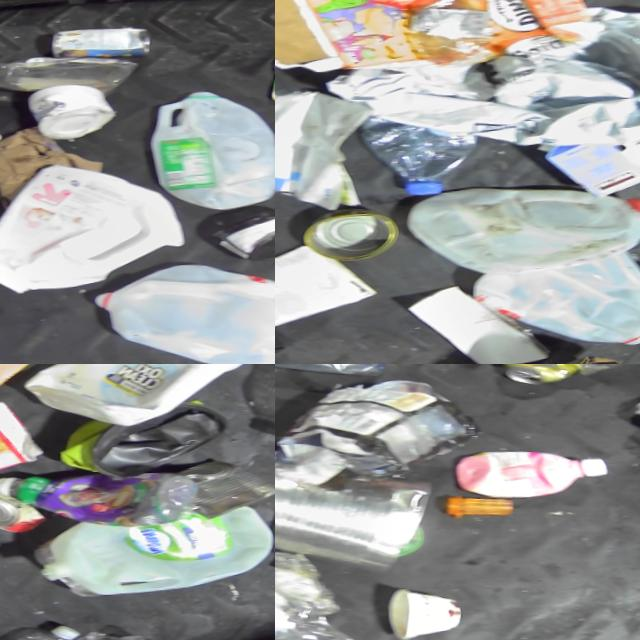can: (297, 204, 399, 262), (0, 482, 42, 536), (508, 364, 585, 387)
milk_jug: (0, 157, 190, 298), (404, 178, 640, 275), (471, 241, 640, 359), (94, 255, 275, 364), (56, 511, 272, 588), (150, 86, 275, 212), (19, 364, 255, 422)
non_white_jug: (67, 400, 229, 481)
plastic_bottle: (360, 96, 474, 196), (275, 554, 365, 640), (0, 46, 141, 100), (251, 364, 275, 434)
